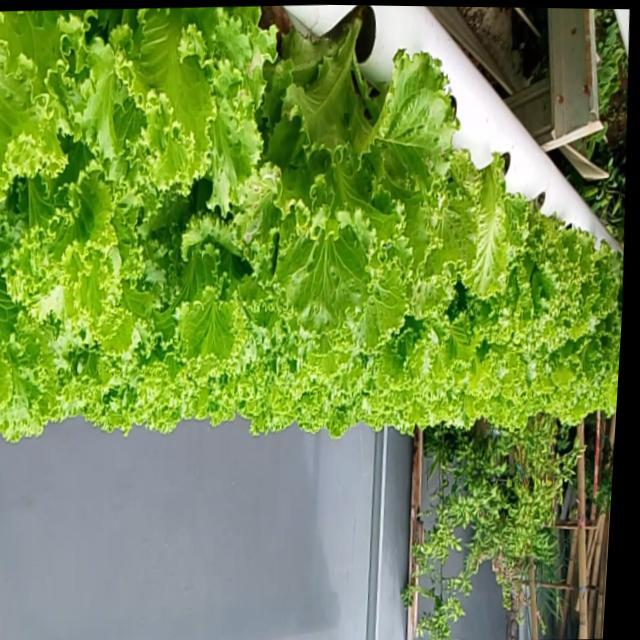Mature: (245, 8, 470, 348), (484, 194, 595, 361)
